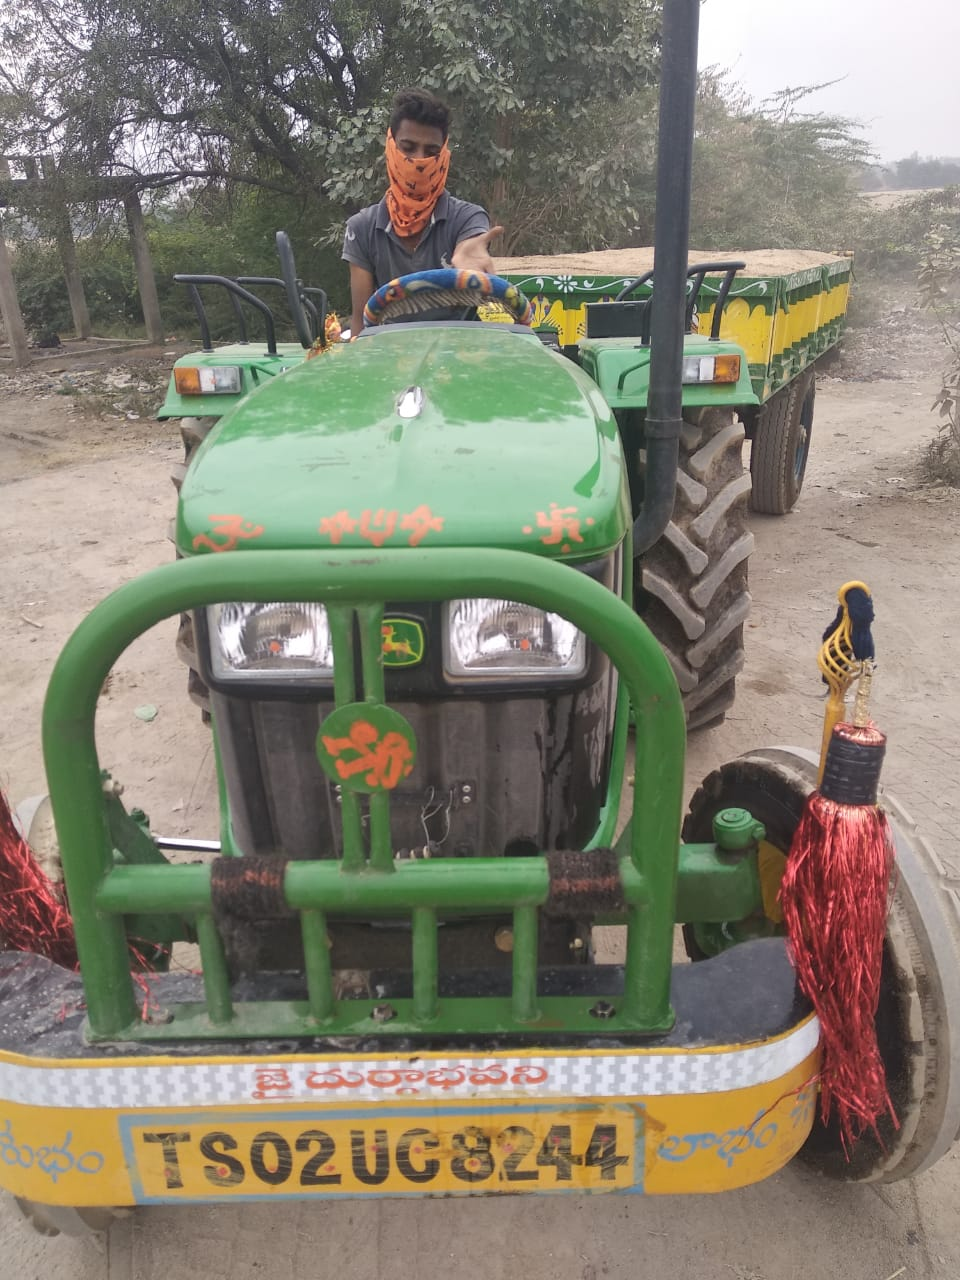license_plate: (129, 1117, 637, 1196)
